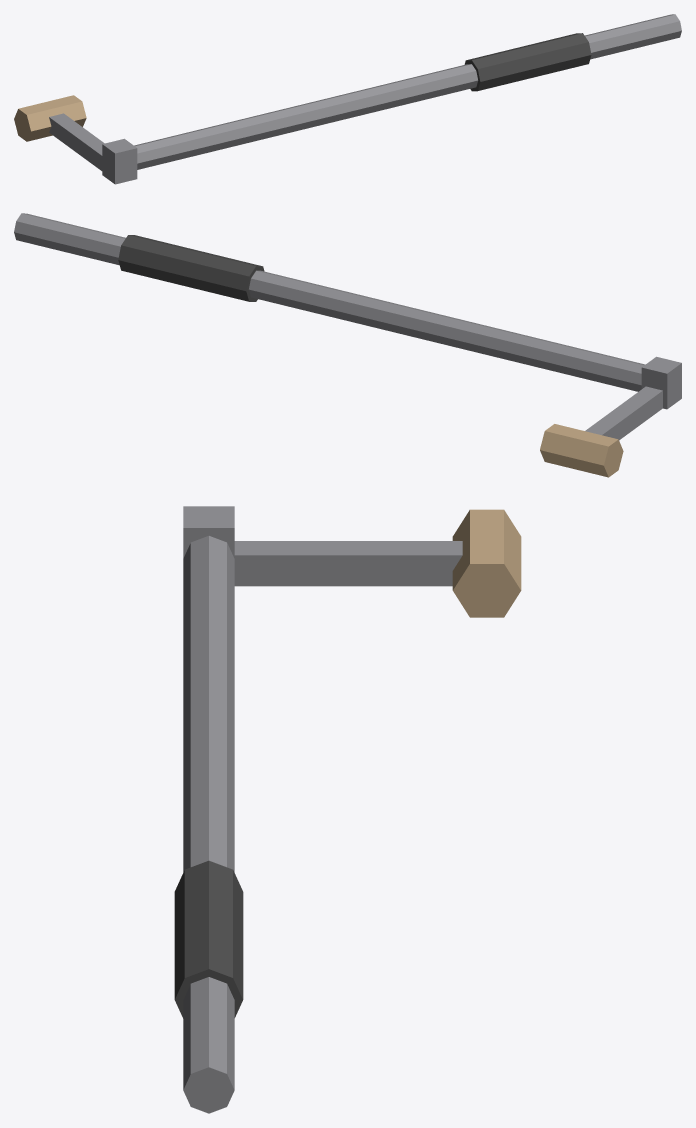
Rendered from prop-mandrel-rod.fbx.
3 views of the same model, one above another, from view 1: azimuth 30°, elevation 25°; view 2: azimuth 150°, elevation 25°; view 3: azimuth 270°, elevation 25° (orthographic). The views are drawn at different scales.
Visible parts, largest first — view 1: prop-mandrel-rod; view 2: prop-mandrel-rod; view 3: prop-mandrel-rod.
Boxes of the visible parts, box(x1,y1,x2,y2) form: prop-mandrel-rod: box(14, 14, 681, 184); prop-mandrel-rod: box(14, 213, 681, 477); prop-mandrel-rod: box(174, 506, 521, 1113).
Bounding box in the file's own units: 31.5 × 1.89 × 8.1.
